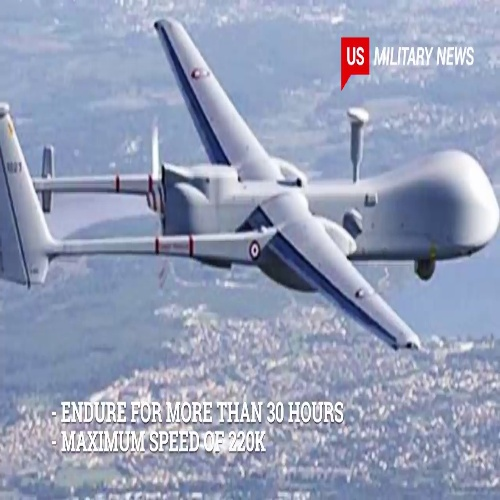uav: (1, 19, 498, 353)
